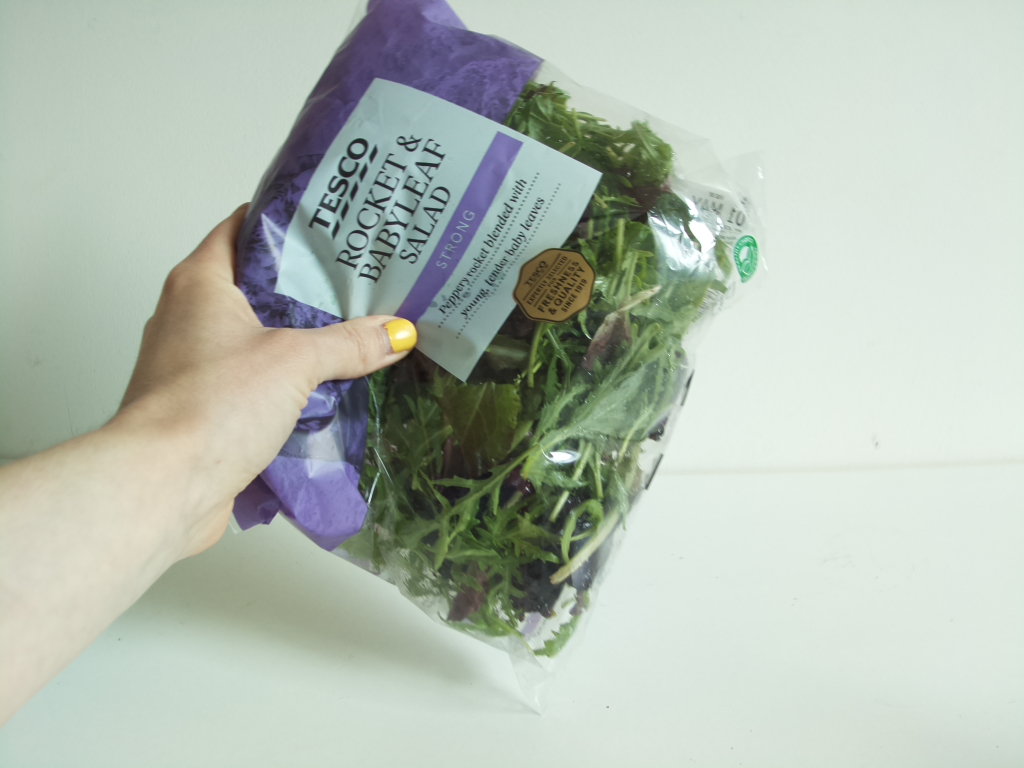salad: (196, 1, 763, 691)
